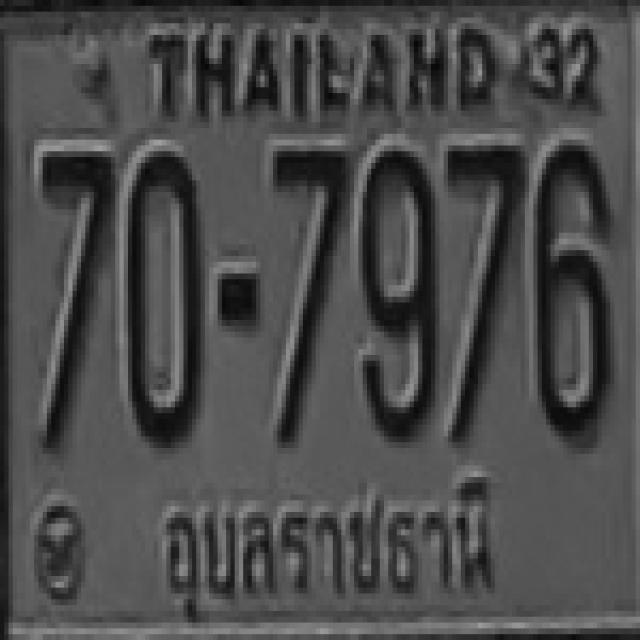0: (124, 148, 200, 440)
6: (533, 140, 610, 436)
7: (271, 146, 348, 442), (444, 140, 520, 430), (38, 148, 111, 434), (271, 146, 348, 396), (444, 140, 520, 390), (38, 148, 111, 376), (444, 140, 520, 326), (41, 151, 113, 326)
9: (358, 146, 436, 437)
UbonRatchathani: (150, 475, 503, 626)
